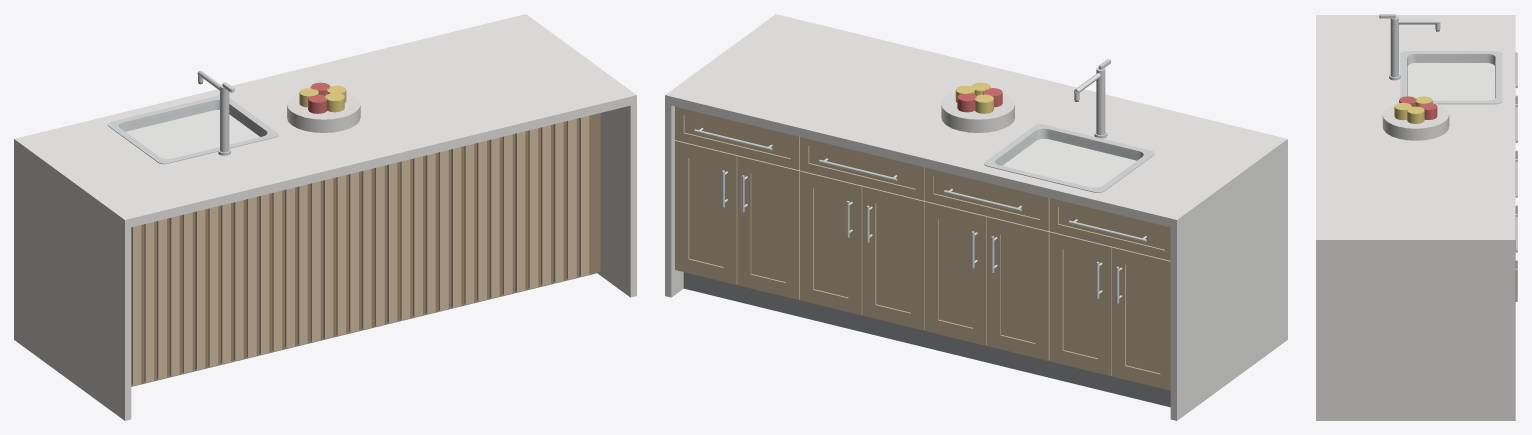
3 renders of one model, left to right at view 1: azimuth 30°, elevation 25°; view 2: azimuth 150°, elevation 25°; view 3: azimuth 270°, elevation 25°, orthographic. The views are drawn at different scales.
Visible parts, largest first — view 1: Đảo bếp Dài=2400; Rộng=900; view 2: Đảo bếp Dài=2400; Rộng=900; view 3: Đảo bếp Dài=2400; Rộng=900.
Part boxes in pixels (box(x1,y1,x2,y2)): Đảo bếp Dài=2400; Rộng=900: box(14, 14, 636, 420); Đảo bếp Dài=2400; Rộng=900: box(665, 14, 1287, 420); Đảo bếp Dài=2400; Rộng=900: box(1316, 14, 1517, 420).
Bounding box in the file's own units: 2.4 × 1.21 × 0.91.
